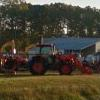Tractor: (18, 30, 84, 83)
